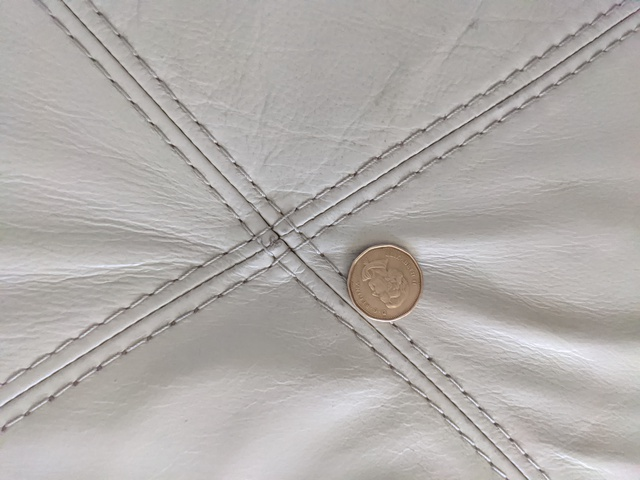loonie: (342, 235, 423, 323)
